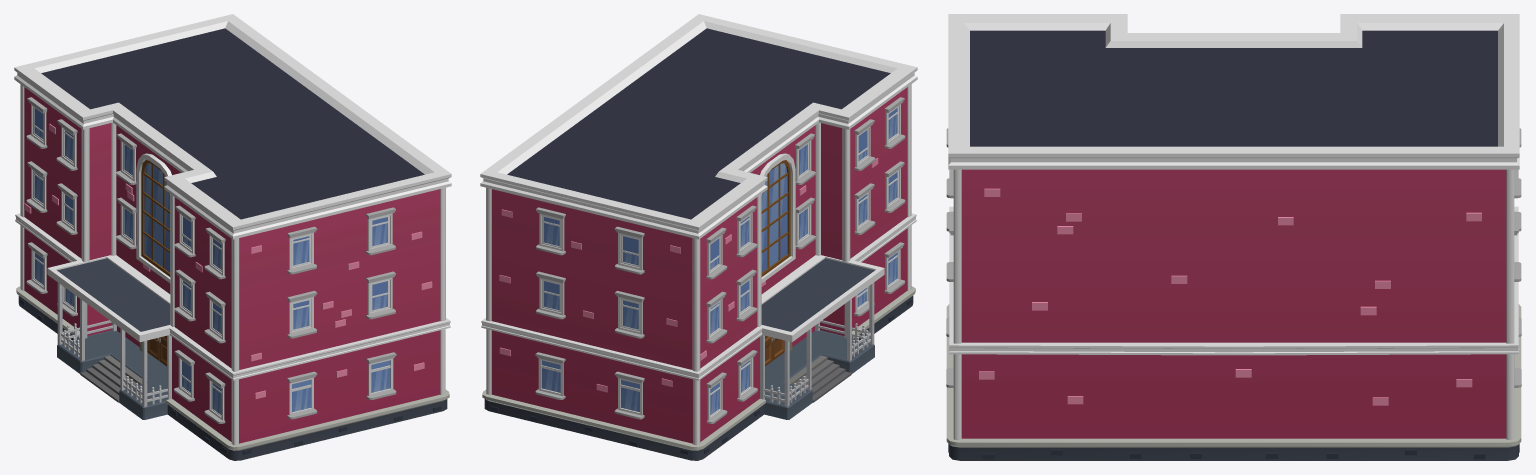
Rendered from Building_5_2_E.fbx.
3 renders of one model, left to right at view 1: azimuth 30°, elevation 25°; view 2: azimuth 150°, elevation 25°; view 3: azimuth 270°, elevation 25°, orthographic. The views are drawn at different scales.
Parts seen in each view (by area): view 1: Building_5_2_E; view 2: Building_5_2_E; view 3: Building_5_2_E.
Part boxes in pixels (x1,y1,x2,y2): Building_5_2_E: (14,14,451,460); Building_5_2_E: (480,14,917,460); Building_5_2_E: (946,14,1521,460).
Size of the model in its own units: 1251 by 1126 by 1908.
